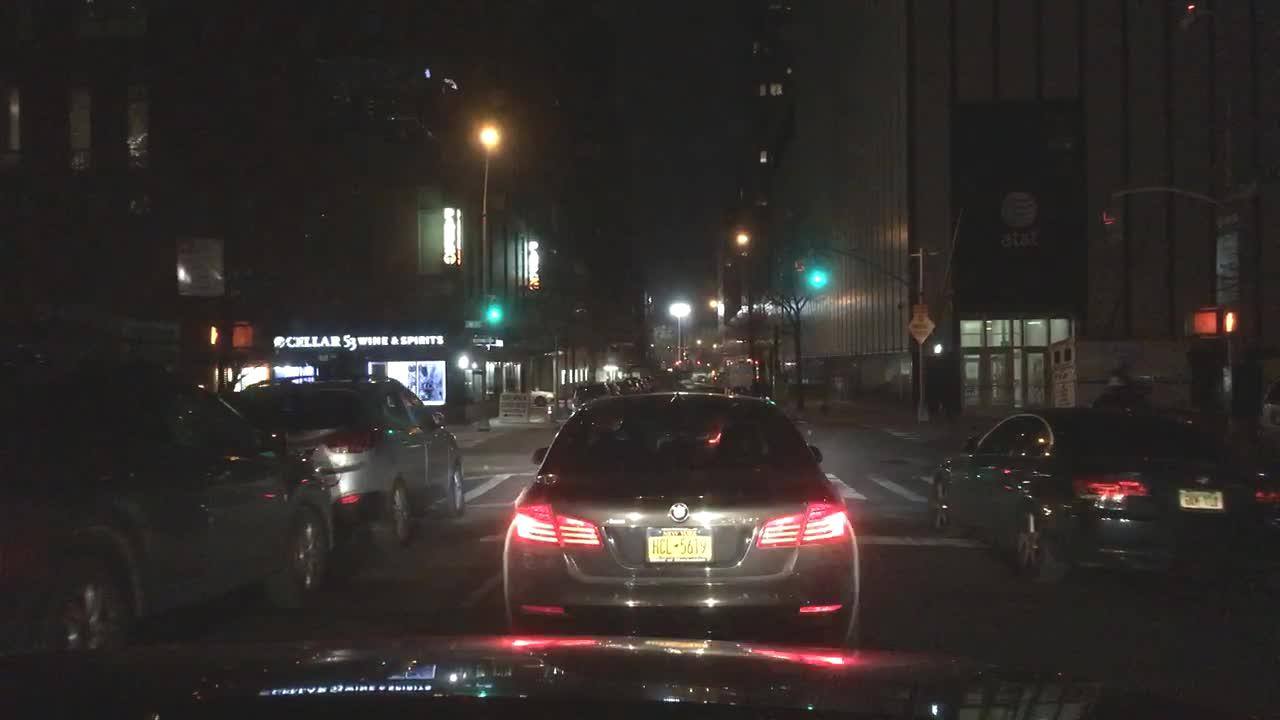bmw: (665, 497, 699, 527)
